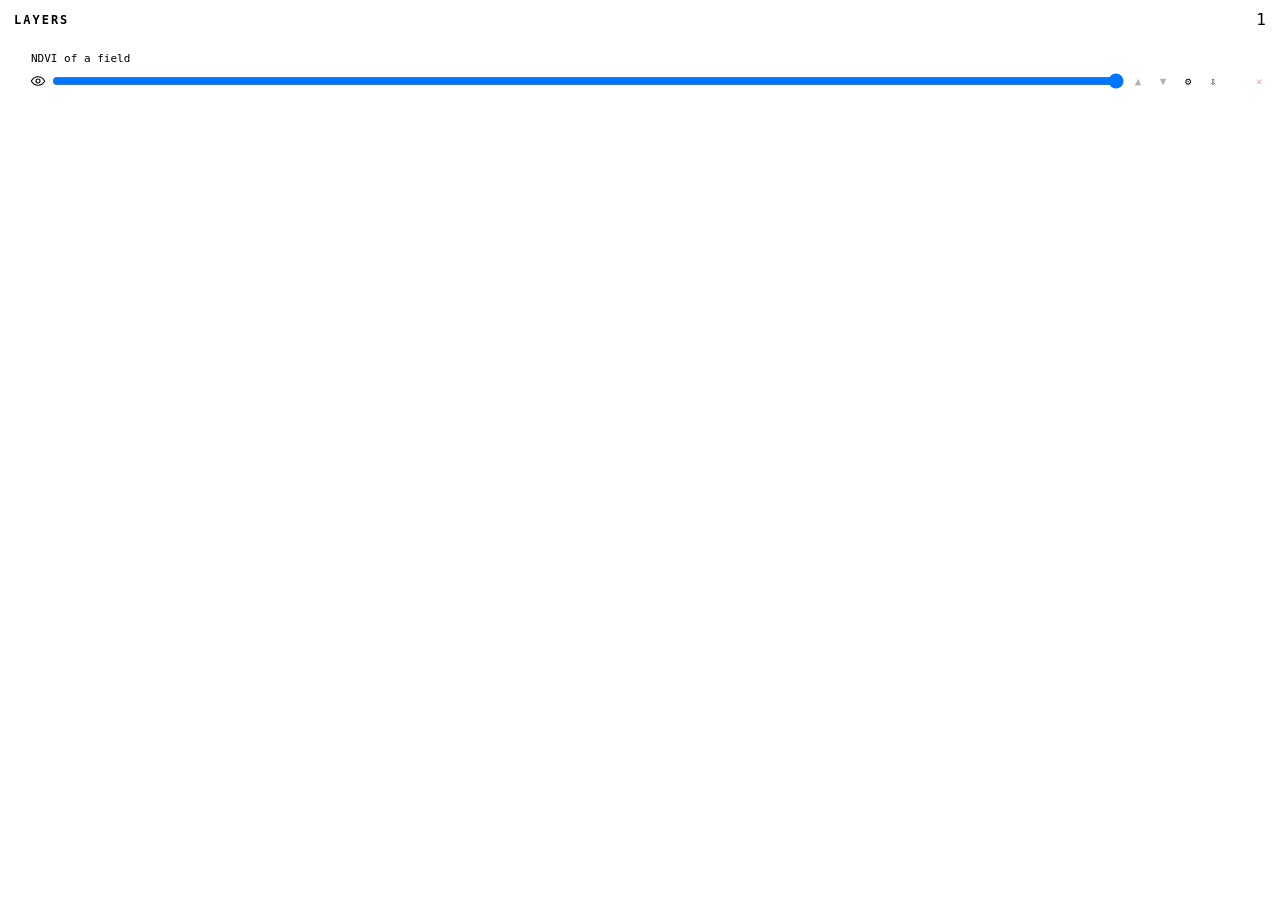
the panel from a result › "AOI only" is locked until the map has an AOI
The image size is (1280, 900).
Click the button "⚙": (1188, 81) [1177,72,1199,90]
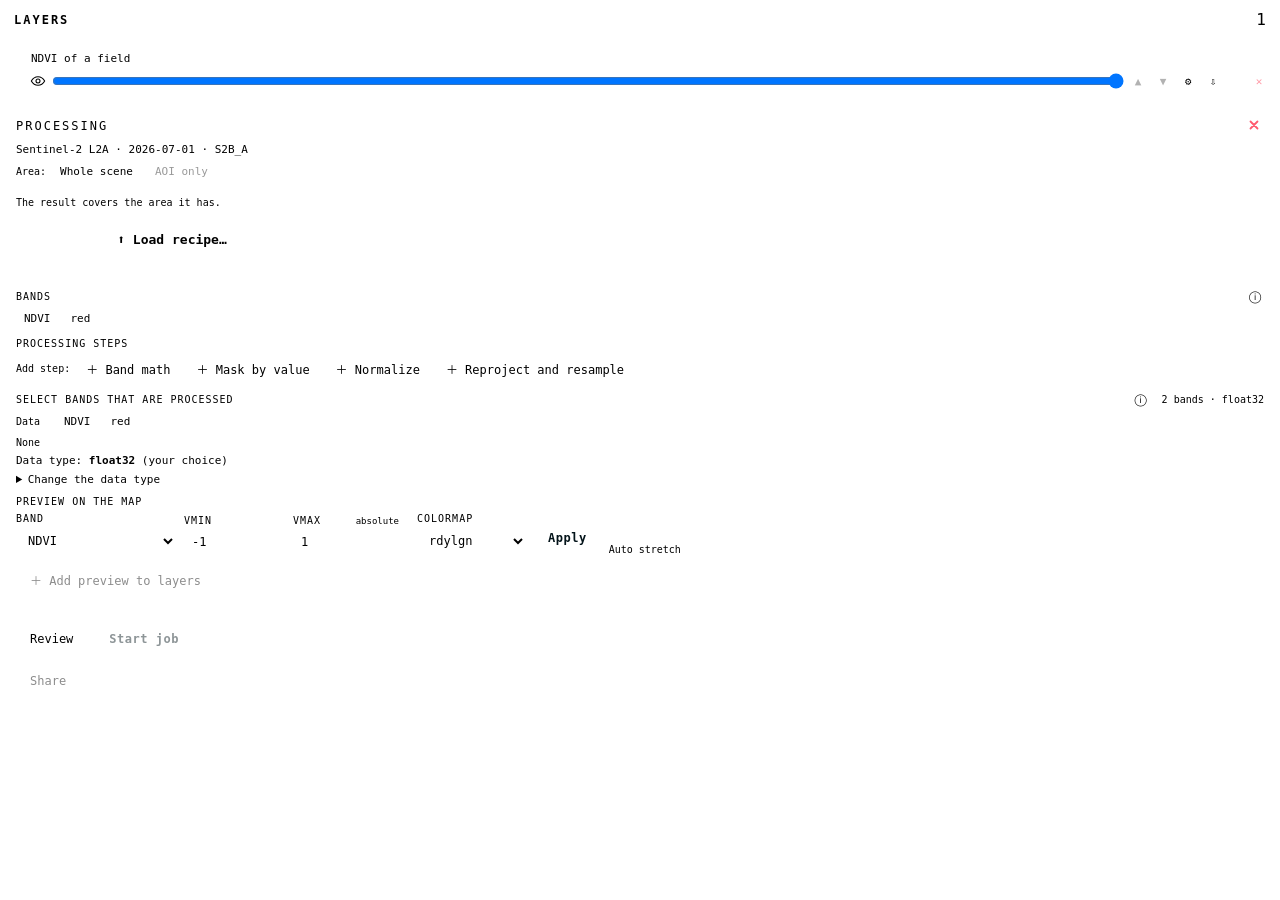
Result: the button "AOI only" is disabled at [147,162,216,181]
